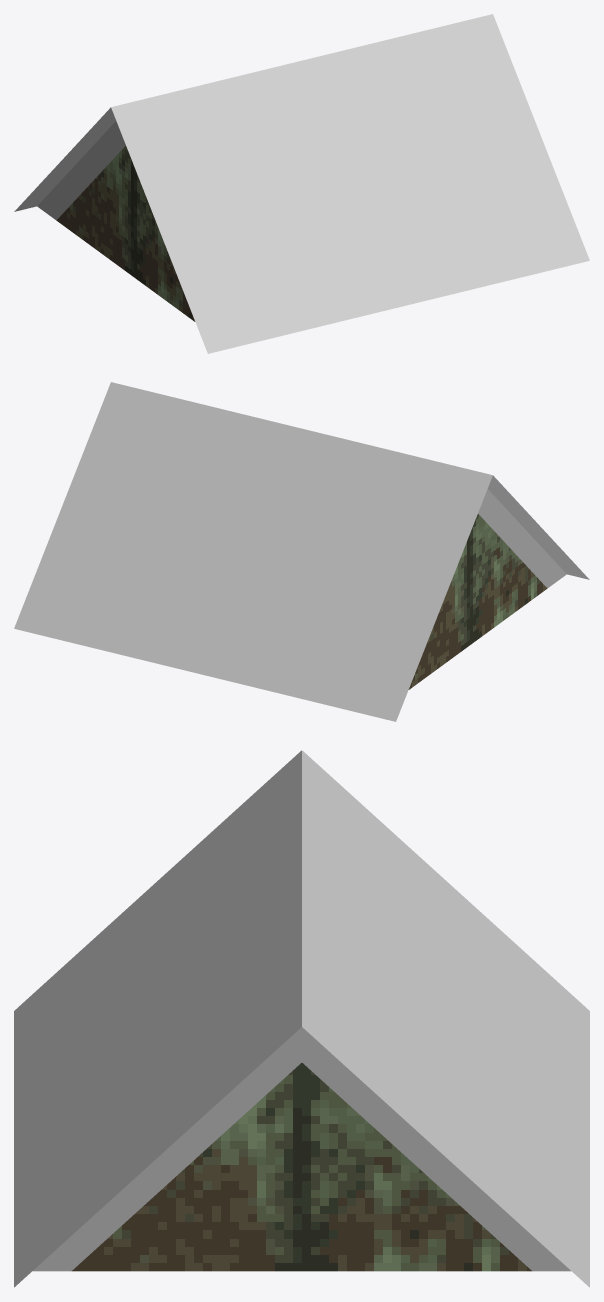
File: wall-b-roof-detailed.obj
3 renders of one model, top to bottom at view 1: azimuth 30°, elevation 25°; view 2: azimuth 150°, elevation 25°; view 3: azimuth 270°, elevation 25°, orthographic. The views are drawn at different scales.
Visible parts, largest first — view 1: wall-b-roof-detailed; view 2: wall-b-roof-detailed; view 3: wall-b-roof-detailed.
Boxes of the visible parts, x1,y1,x2,y2 form: wall-b-roof-detailed: [14, 14, 589, 353]; wall-b-roof-detailed: [14, 382, 589, 721]; wall-b-roof-detailed: [14, 750, 589, 1287].
Bounding box in the file's own units: 1.14 × 0.5 × 1.
